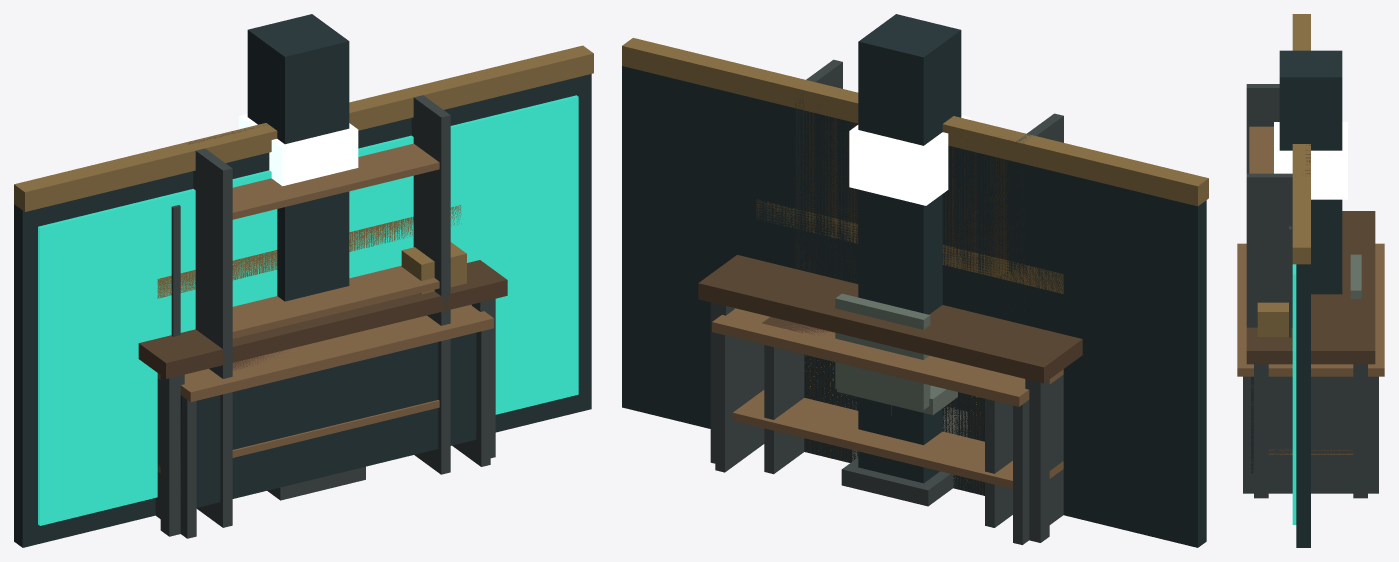
File: hq-bot-office-pack.glb
3 views of the same model, side by side, from view 1: azimuth 30°, elevation 25°; view 2: azimuth 150°, elevation 25°; view 3: azimuth 270°, elevation 25° (orthographic). The views are drawn at different scales.
Visible parts, largest first — view 1: Board_Screen, Desk_Modesty, Board_Panel, Totem_Column, Board_Header, Bench_Top, Shelf_Upright_West, Desk_Top, Shelf_Upright_East, Shelf_Board_1, Shelf_Board_2, Totem_Band (+9 smaller); view 2: Board_Panel, Totem_Column, Bench_Top, Board_Header, Routing_Panel, Desk_Top, Bench_Shelf, Shelf_Back, Totem_Band, Desk_Leg_East, Chair_Back, Desk_Leg_West (+9 smaller); view 3: Desk_Leg_East, Totem_Column, Bench_Top, Shelf_Upright_East, Board_Panel, Desk_Top, Board_Header, Totem_Band, Bench_Leg_EN, Bench_Leg_ES, Shelf_Upright_West, Board_Screen (+5 smaller).
Part boxes in pixels (left/top/right/bottom): Board_Screen: left=38, top=95, right=578, bottom=525; Desk_Modesty: left=180, top=332, right=476, bottom=507; Board_Panel: left=14, top=74, right=591, bottom=547; Totem_Column: left=247, top=14, right=349, bottom=301; Board_Header: left=14, top=45, right=593, bottom=211; Bench_Top: left=138, top=260, right=507, bottom=378; Shelf_Upright_West: left=193, top=148, right=232, bottom=527; Desk_Top: left=157, top=304, right=493, bottom=402; Shelf_Upright_East: left=411, top=95, right=450, bottom=474; Shelf_Board_1: left=232, top=265, right=439, bottom=338; Shelf_Board_2: left=232, top=143, right=439, bottom=219; Totem_Band: left=238, top=114, right=358, bottom=186; Board_Panel: left=622, top=66, right=1206, bottom=547; Totem_Column: left=858, top=14, right=961, bottom=483; Bench_Top: left=698, top=255, right=1082, bottom=383; Board_Header: left=622, top=38, right=1208, bottom=206; Routing_Panel: left=756, top=219, right=1063, bottom=487; Desk_Top: left=712, top=308, right=1063, bottom=406; Bench_Shelf: left=732, top=390, right=1063, bottom=488; Shelf_Back: left=794, top=103, right=1024, bottom=495; Totem_Band: left=849, top=115, right=970, bottom=205; Desk_Leg_East: left=715, top=333, right=764, bottom=472; Chair_Back: left=835, top=293, right=930, bottom=410; Desk_Leg_West: left=1013, top=375, right=1063, bottom=544; Desk_Leg_East: left=1243, top=376, right=1378, bottom=493; Totem_Column: left=1279, top=50, right=1342, bottom=294; Bench_Top: left=1246, top=211, right=1375, bottom=364; Shelf_Upright_East: left=1246, top=173, right=1292, bottom=327; Board_Panel: left=1296, top=264, right=1310, bottom=547; Desk_Top: left=1237, top=243, right=1384, bottom=376; Board_Header: left=1292, top=14, right=1310, bottom=264; Totem_Band: left=1274, top=122, right=1347, bottom=199; Bench_Leg_EN: left=1353, top=364, right=1367, bottom=498; Bench_Leg_ES: left=1254, top=364, right=1268, bottom=498; Shelf_Upright_West: left=1246, top=84, right=1279, bottom=173; Board_Screen: left=1292, top=264, right=1296, bottom=524.
Size of the model in its own units: 3 by 2.2 by 0.8.
